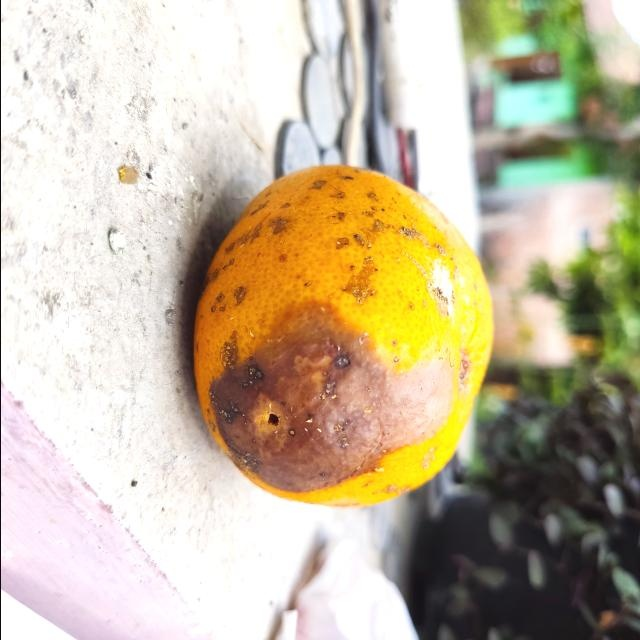agrume: (188, 163, 495, 513)
